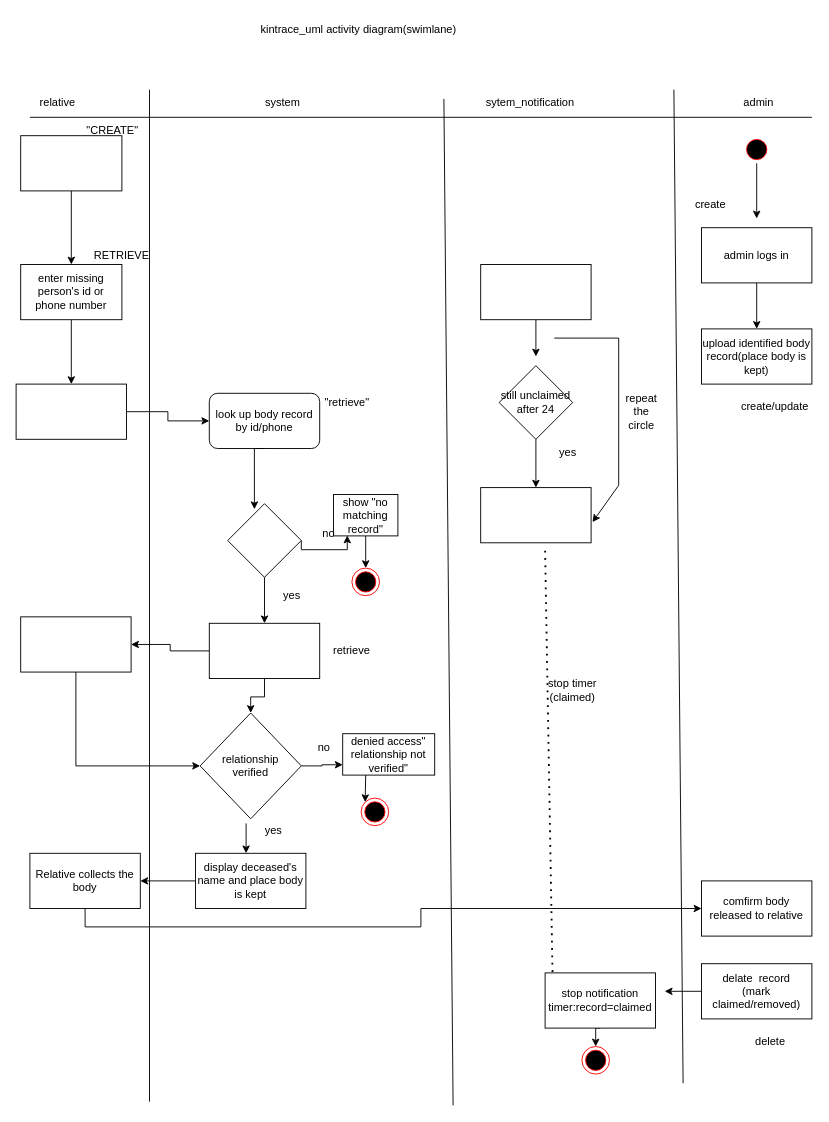
Some shapes in this 829 by 1122 pixel diagram are drawn without their labels. The shapes that lost their labels are listed below. From the top down, each one's centre as x and y in pixels, then its label:
pixel 71 163: login/create acc
pixel 535 292: start 24-hour timer
pixel 70 411: submit request
pixel 535 515: notify two registered relatives
pixel 264 540: record found?
pixel 75 644: enter own id number
pixel 264 650: prompt relative to enter own id(verification)
